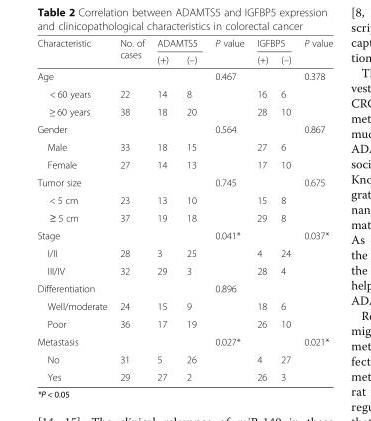table: (36, 37, 332, 382)
table column: (36, 37, 113, 382), (205, 37, 250, 382), (113, 37, 150, 382), (297, 37, 332, 382), (176, 37, 205, 382), (150, 37, 176, 382), (273, 37, 297, 382), (250, 37, 273, 382)
table column header: (36, 37, 332, 67)
table row: (36, 101, 332, 120), (36, 137, 332, 155), (36, 155, 332, 173), (36, 190, 332, 208), (36, 208, 332, 226), (36, 226, 332, 244), (36, 261, 332, 279), (36, 279, 332, 297), (36, 314, 332, 332), (36, 332, 332, 350), (36, 50, 332, 67), (36, 67, 332, 84), (36, 84, 332, 101), (36, 120, 332, 137), (36, 173, 332, 190), (36, 244, 332, 261), (36, 297, 332, 314), (36, 350, 332, 367), (36, 367, 332, 382), (36, 37, 332, 50)
table spanning cell: (36, 37, 113, 67), (205, 37, 250, 67), (113, 37, 150, 67), (297, 37, 332, 67), (150, 37, 205, 50), (250, 37, 297, 50)
